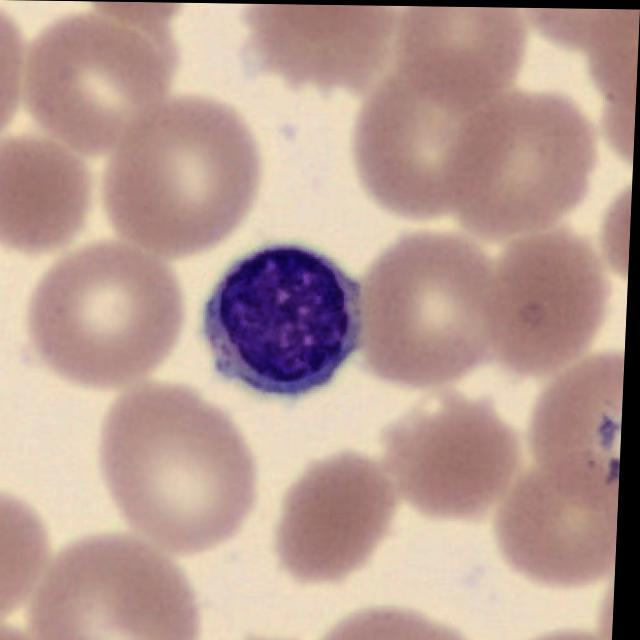Linfocito: (204, 244, 364, 393)
